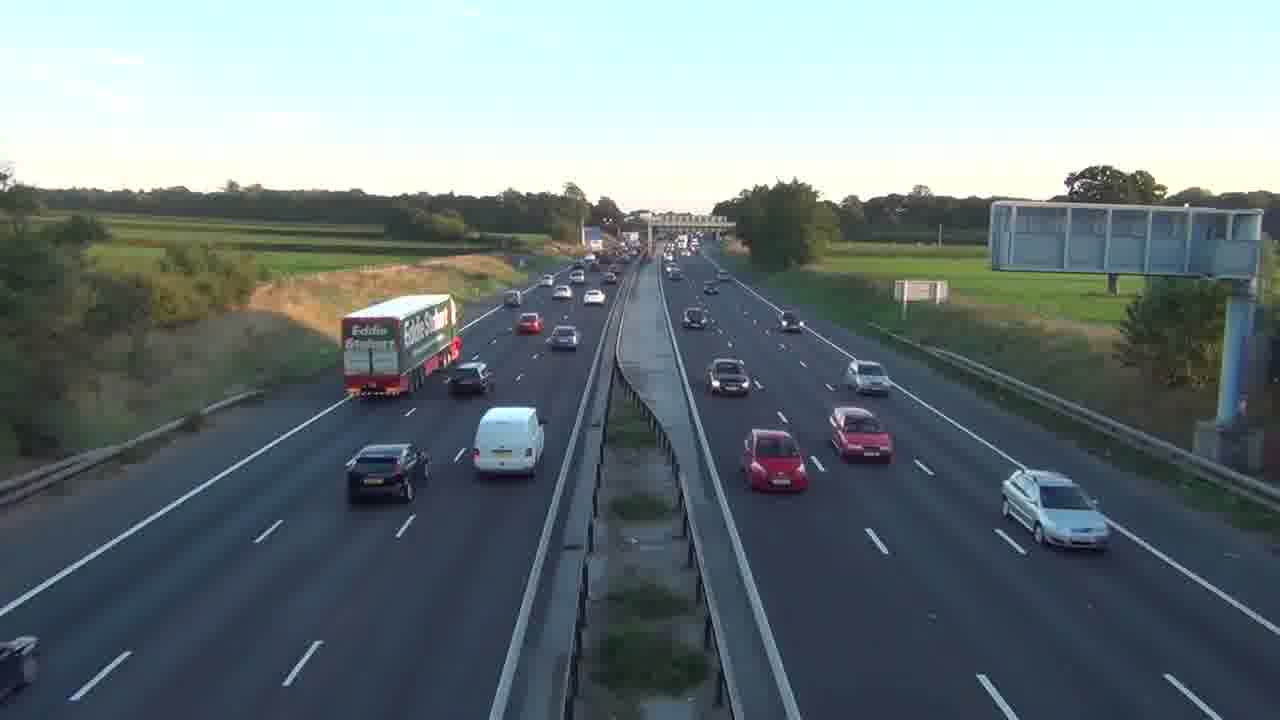bus: (340, 292, 456, 399)
car: (344, 441, 423, 504), (739, 429, 810, 494), (828, 405, 895, 465), (705, 357, 753, 398), (844, 359, 892, 396), (445, 361, 495, 396), (546, 324, 580, 352), (551, 284, 572, 299)
truck: (1000, 468, 1110, 551), (472, 406, 546, 479)
